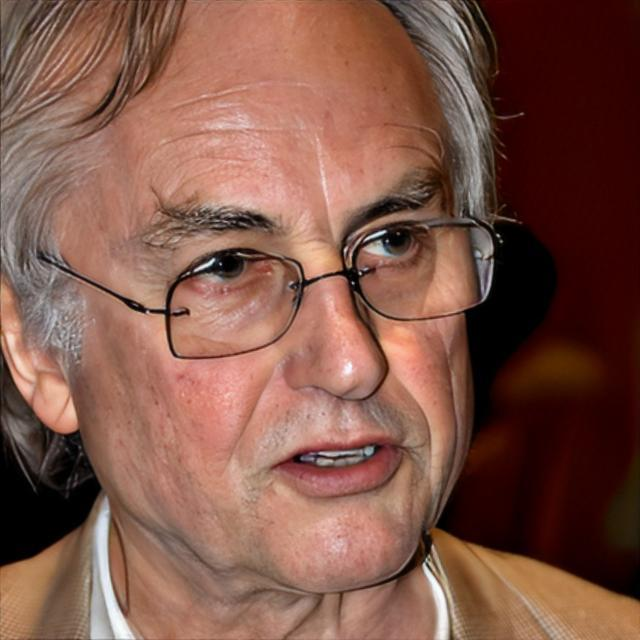anger: (82, 5, 480, 596)
